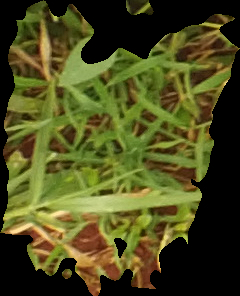grass: (1, 1, 239, 295)
